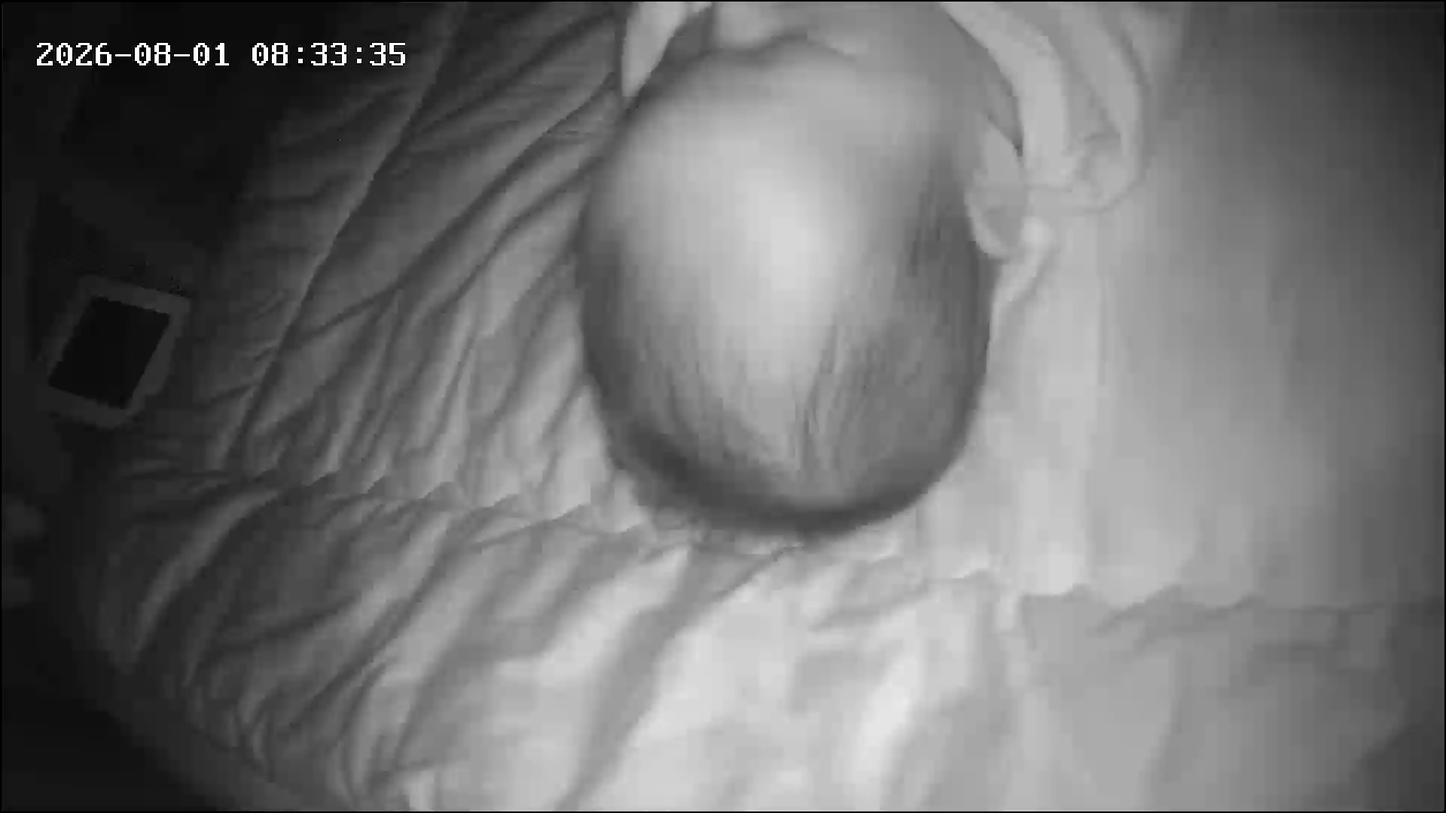baby: (531, 0, 1431, 543), (172, 0, 1036, 549)
baby_face: (571, 10, 1014, 531)
